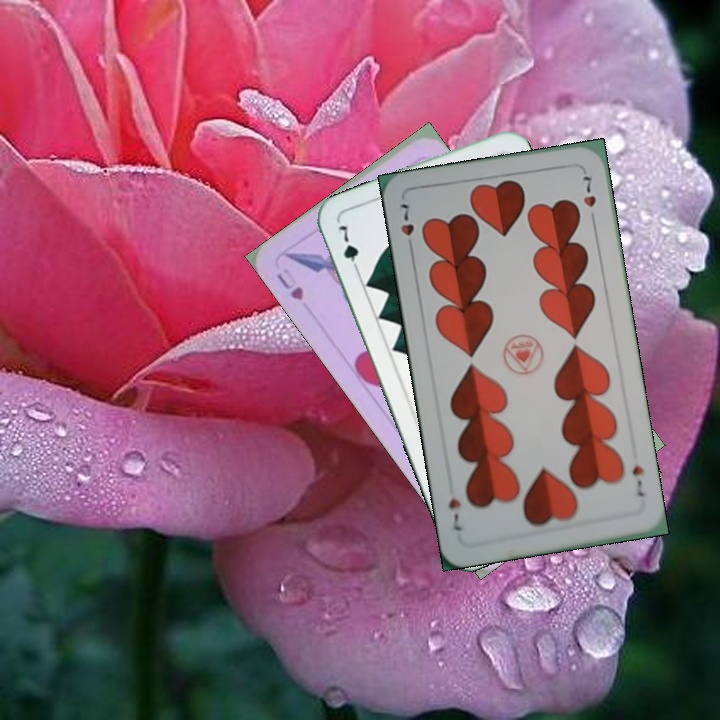G7: (334, 221, 362, 277)
H7: (392, 199, 417, 255), (628, 461, 650, 499)
HU: (272, 263, 307, 304)
